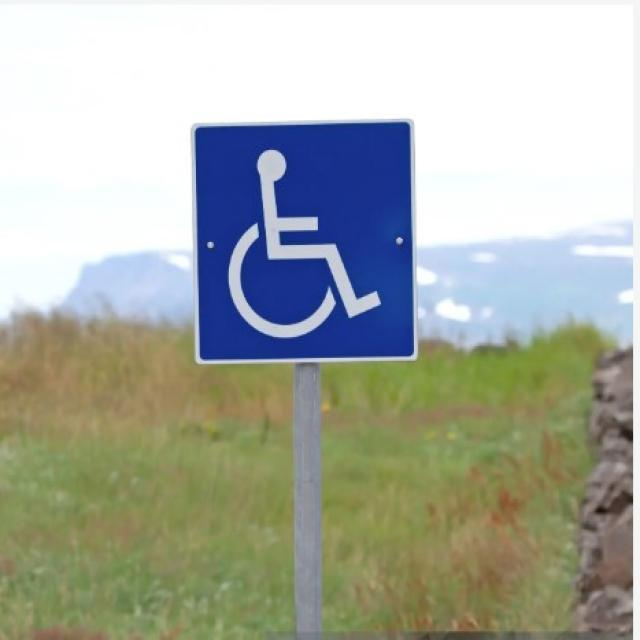symbol_of_access: (185, 114, 421, 371)
